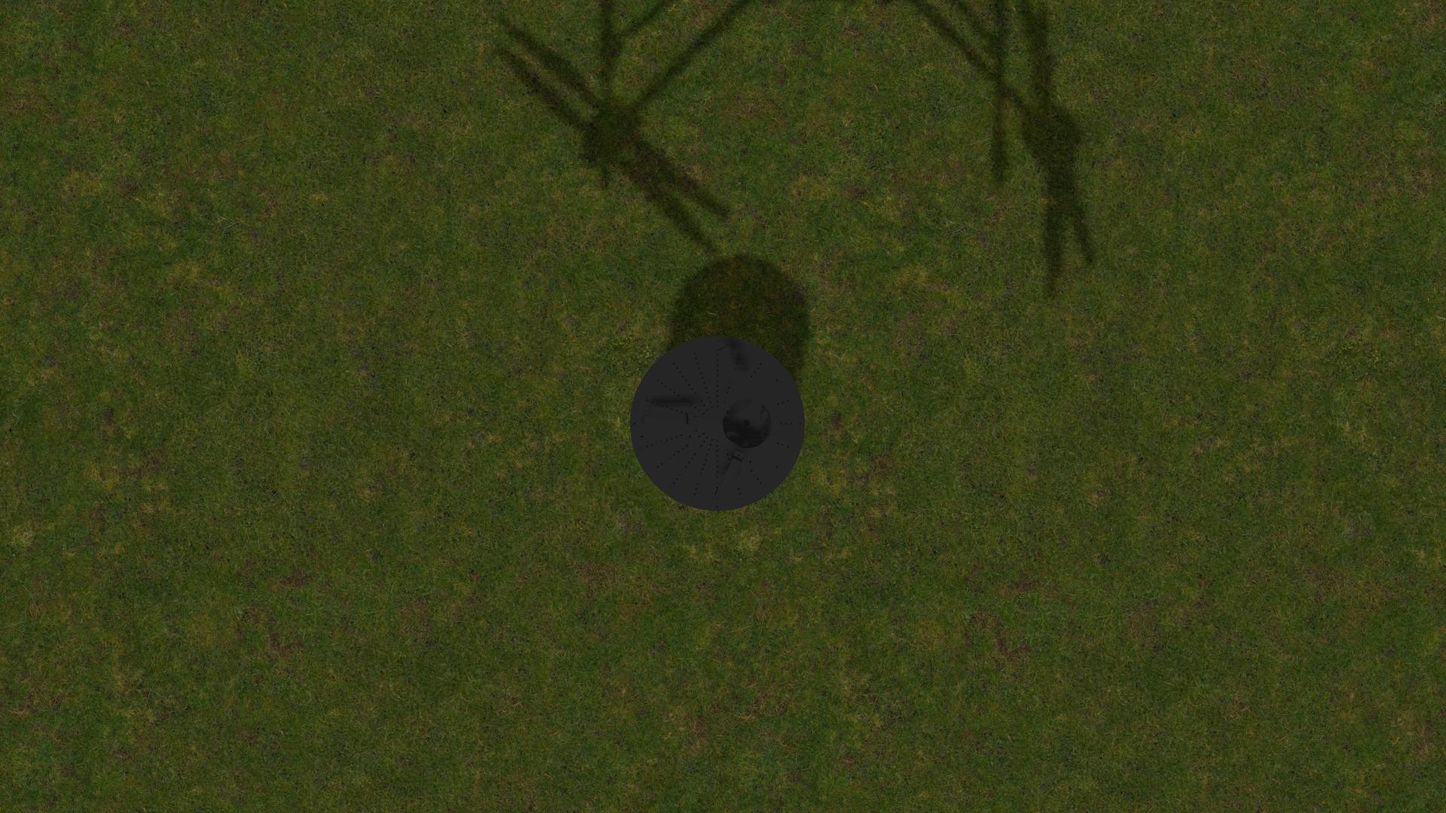alca: (714, 342, 745, 395), (713, 450, 744, 503), (639, 413, 694, 426)
armadilha: (630, 336, 805, 511)
